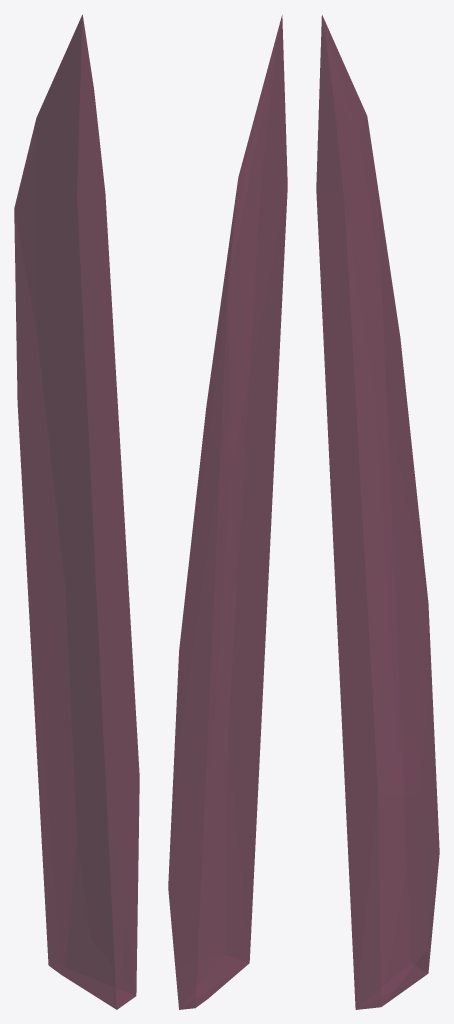
3 views of the same model, side by side, from view 1: azimuth 30°, elevation 25°; view 2: azimuth 150°, elevation 25°; view 3: azimuth 330°, elevation 25° (orthographic). The views are drawn at different scales.
Parts seen in each view (by area): view 1: Shape_IndexedFaceSet.068_Shape_IndexedFaceSet.9876; view 2: Shape_IndexedFaceSet.068_Shape_IndexedFaceSet.9876; view 3: Shape_IndexedFaceSet.068_Shape_IndexedFaceSet.9876.
Boxes of the visible parts, bbox=[...] form: Shape_IndexedFaceSet.068_Shape_IndexedFaceSet.9876: bbox=[14, 14, 139, 1009]; Shape_IndexedFaceSet.068_Shape_IndexedFaceSet.9876: bbox=[168, 15, 287, 1009]; Shape_IndexedFaceSet.068_Shape_IndexedFaceSet.9876: bbox=[316, 15, 439, 1009].
Size of the model in its own units: 0.0681 by 0.9596 by 0.1079.
